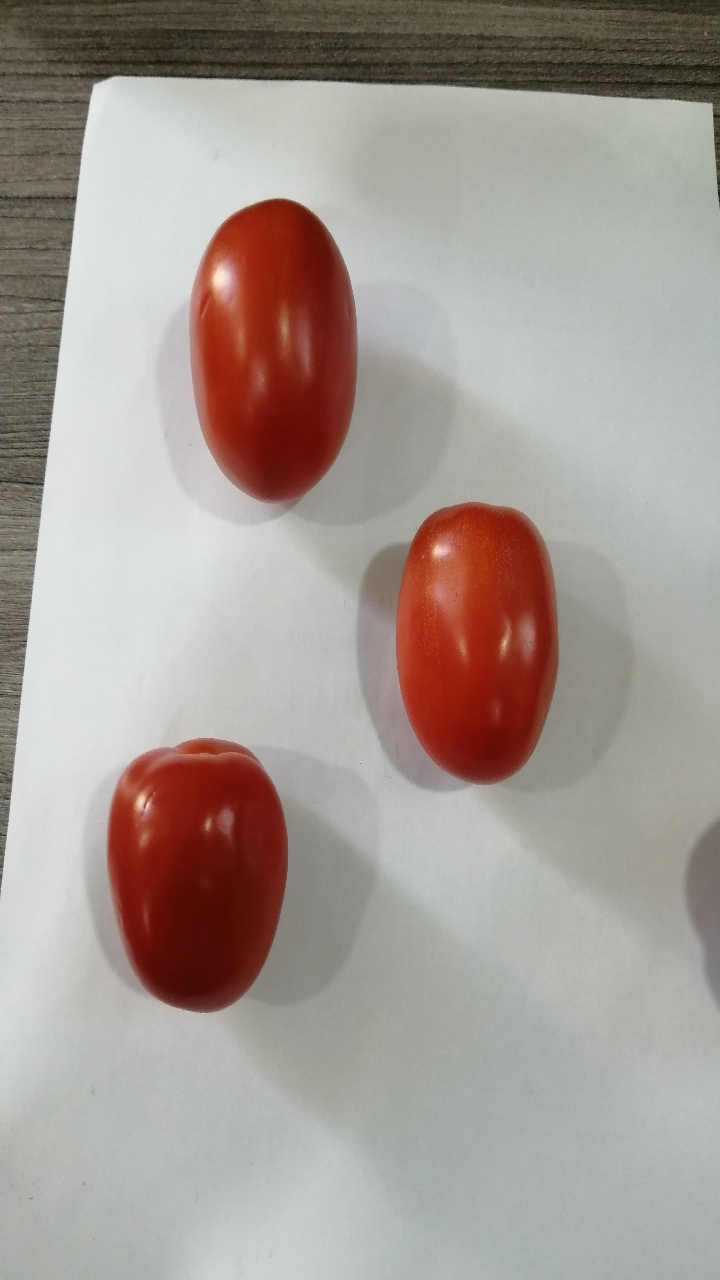tomateRojo: (161, 183, 372, 520), (375, 486, 592, 803), (88, 717, 289, 1025)
